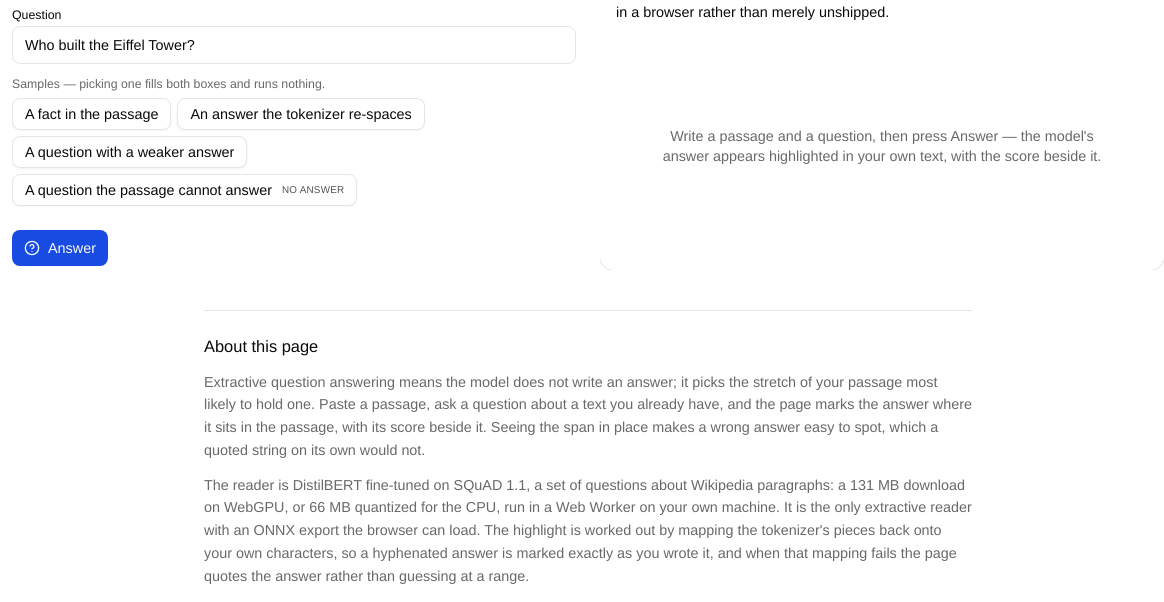
QuestionAnsweringPage › marks the answer in the passage at the offsets the model returned
This screenshot has width=1164, height=602.
(page scrolled)
Click the button "Answer".
click(60, 248)  # box [12, 230, 108, 266]
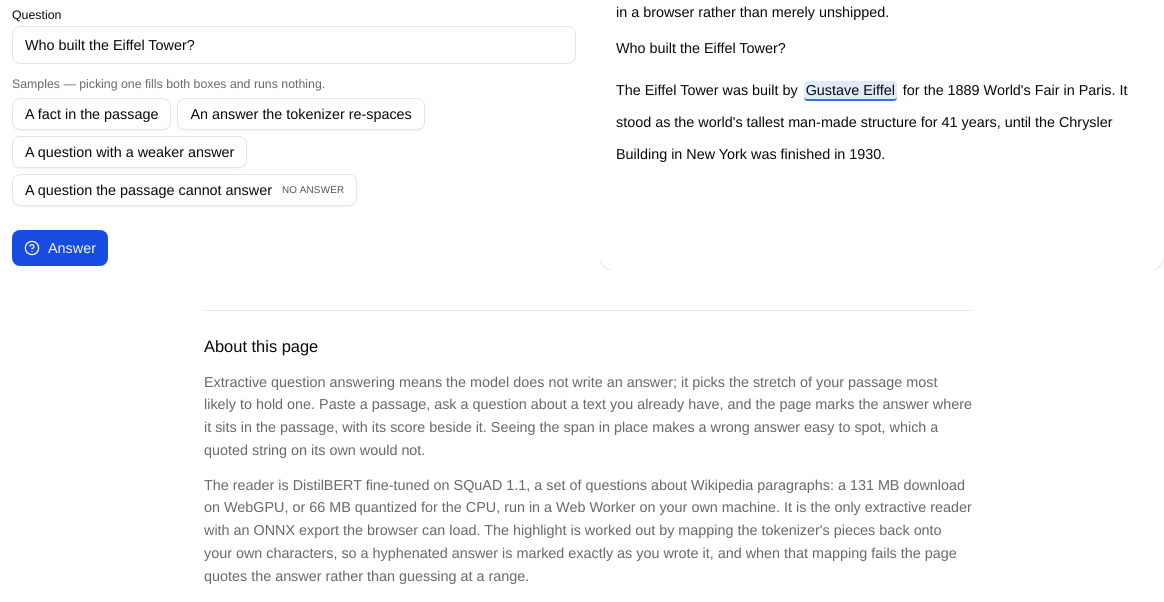
Check: the element with test id "answer-span" is shown, box [616, 74, 1148, 170]
Check: the element with test id "span-mark" reads "Gustave Eiffel", box [806, 80, 895, 98]
Check: the text "Gustave Eiffel" is shown, box [806, 80, 895, 98]
